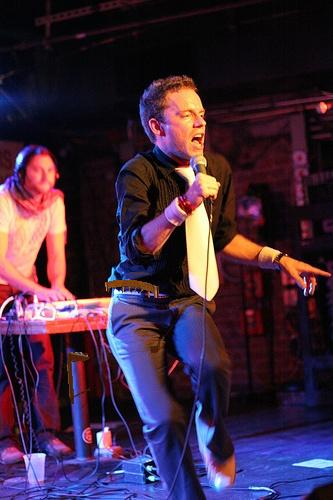tampered: (68, 281, 160, 404)
